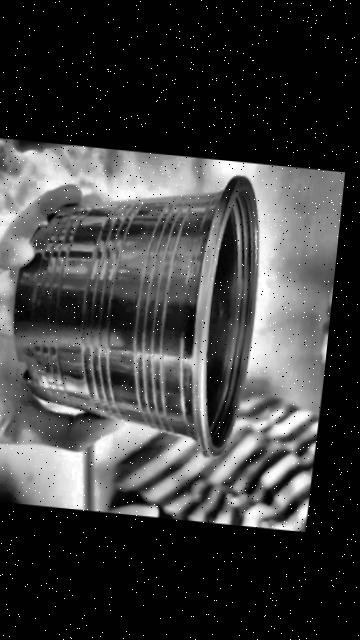pot: (12, 177, 256, 456)
